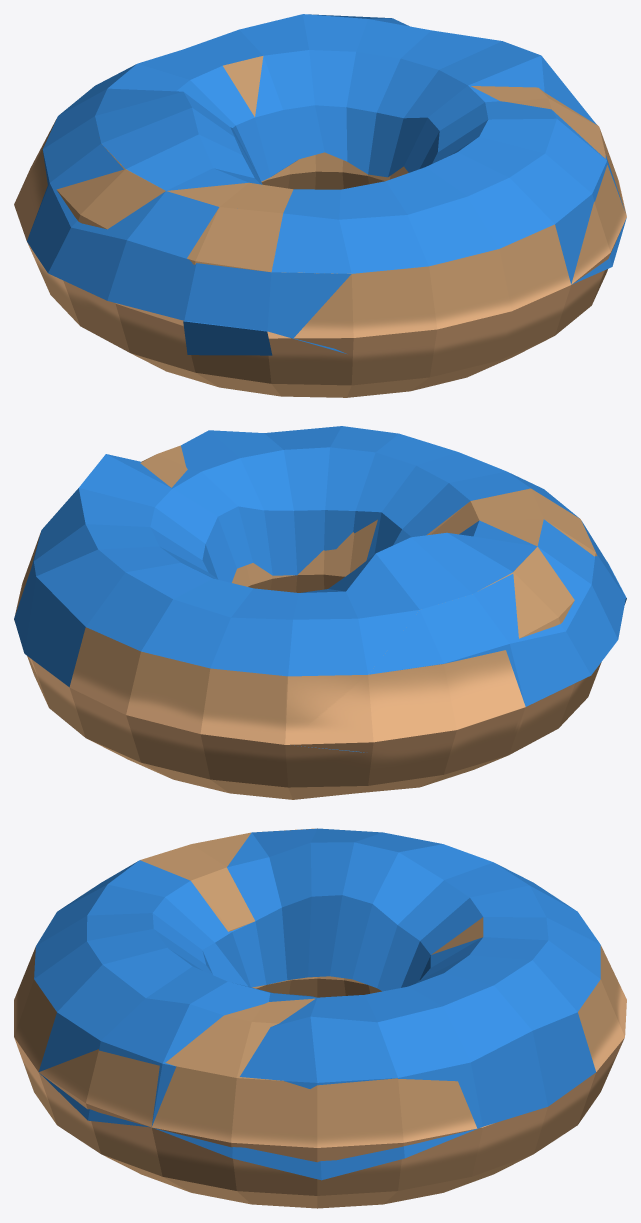
Rendered from lowpolydonut_blue.glb.
The picture shows the model from 3 angles, top to bottom: view 1: azimuth 30°, elevation 25°; view 2: azimuth 150°, elevation 25°; view 3: azimuth 270°, elevation 25°; orthographic projection.
Visible parts, largest first — view 1: Icing, Donut; view 2: Icing, Donut; view 3: Icing, Donut.
Boxes of the visible parts, x1,y1,x2,y2 form: Icing: (27, 14, 626, 355); Donut: (14, 56, 626, 397); Icing: (14, 426, 626, 752); Donut: (14, 445, 601, 799); Icing: (34, 828, 600, 1180); Donut: (14, 828, 626, 1208).
Bounding box in the file's own units: 0.0898 × 0.0331 × 0.0872.
Materials: 2 (1 with a texture image).
